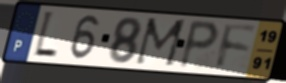6: (69, 13, 101, 61)
8: (105, 16, 143, 65)
F: (214, 22, 259, 72)
L: (31, 9, 60, 61)
M: (132, 16, 189, 70)
P: (176, 18, 221, 71)
